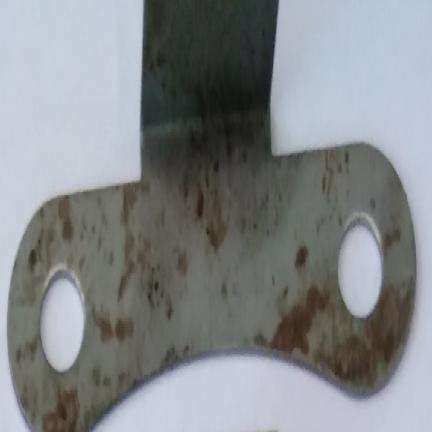karat: (58, 193, 74, 241)
